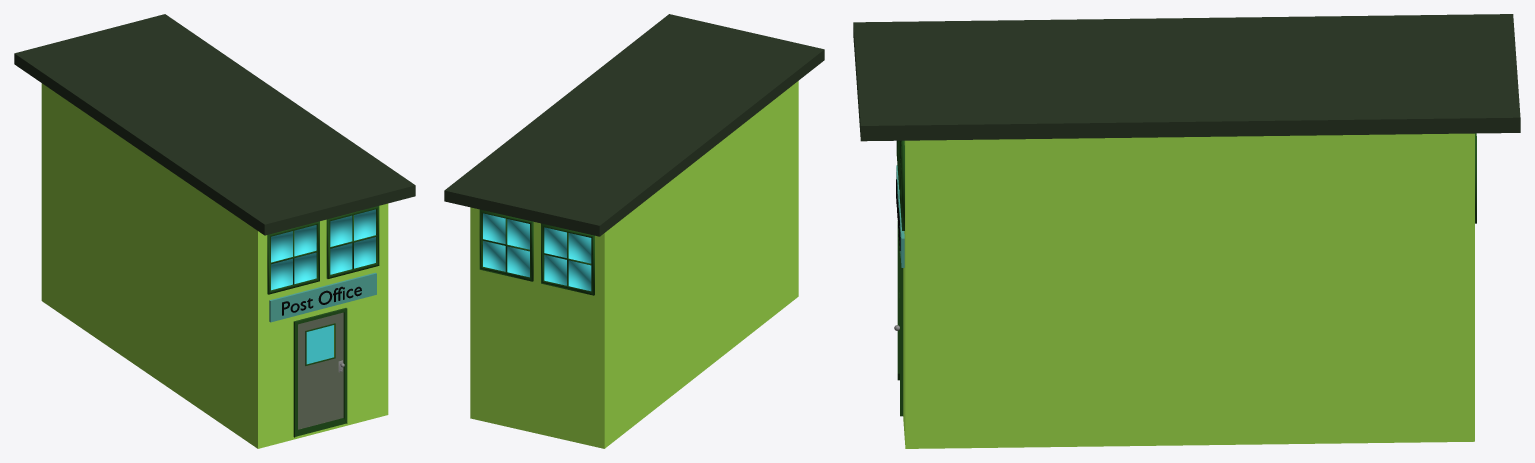
Rendered from postoffice_compressed.glb.
3 views of the same model, side by side, from view 1: azimuth 30°, elevation 25°; view 2: azimuth 150°, elevation 25°; view 3: azimuth 270°, elevation 25° (orthographic). The views are drawn at different scales.
Visible parts, largest first — view 1: Cube.314, Cube.305, Cube.317, Text.010; view 2: Cube.314, Cube.305; view 3: Cube.314, Cube.305.
Part boxes in pixels (x1,y1,x2,y2): Cube.314: [14, 14, 415, 448]; Cube.305: [267, 206, 379, 437]; Cube.317: [269, 272, 376, 322]; Text.010: [282, 286, 361, 315]; Cube.314: [444, 14, 824, 448]; Cube.305: [479, 209, 594, 295]; Cube.314: [853, 14, 1520, 448]; Cube.305: [896, 133, 1476, 416].
Bounding box in the file's own units: 0.8753 × 1.2 × 2.2.
